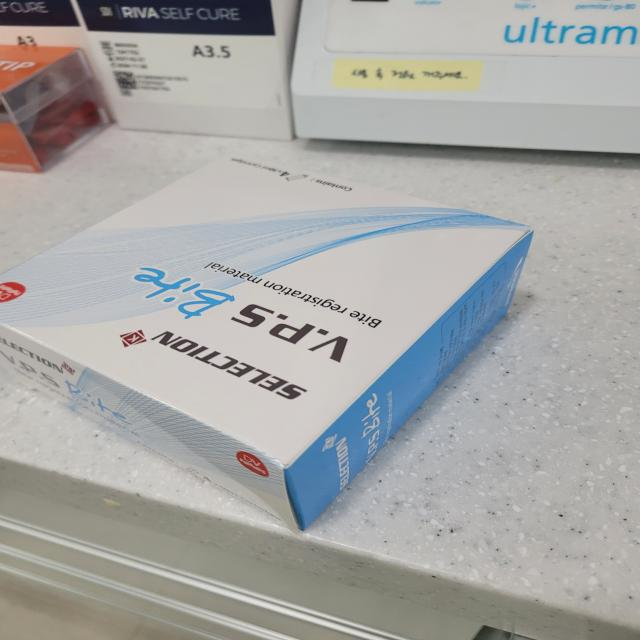impression: (0, 133, 557, 542)
